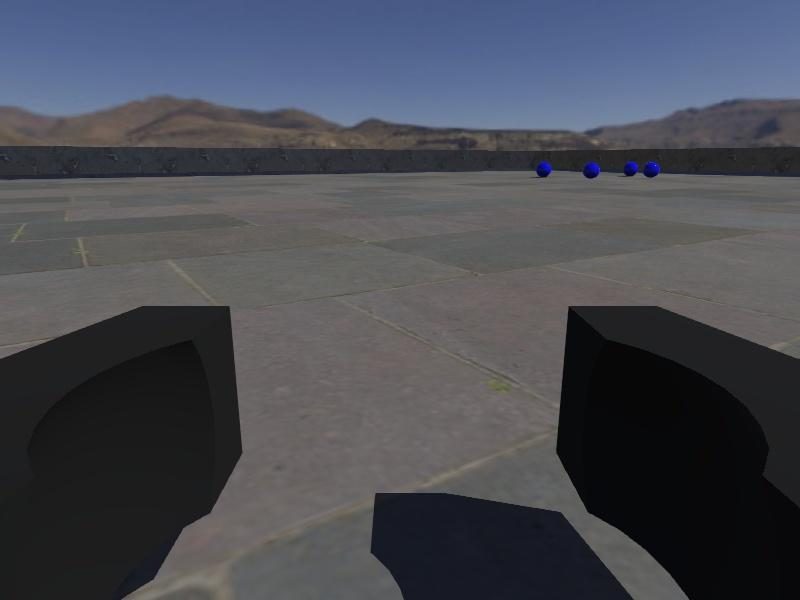blue ball: (535, 160, 553, 178), (644, 160, 661, 178), (582, 162, 600, 178), (622, 159, 638, 176)
